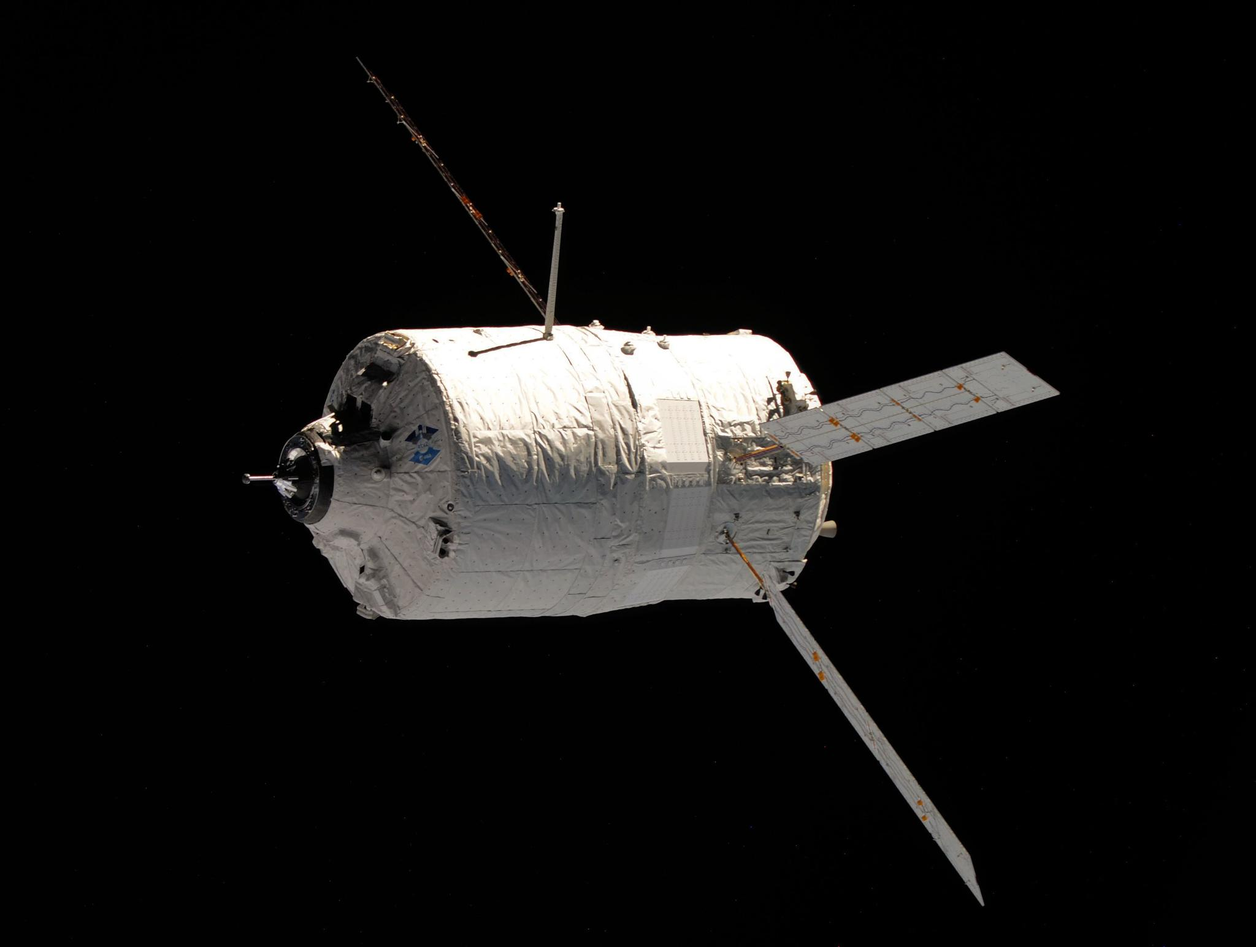antenna: (539, 196, 568, 342)
body: (241, 323, 838, 625)
solar: (763, 575, 990, 915), (352, 55, 561, 326), (757, 347, 1064, 467)
thruster: (817, 519, 838, 541), (803, 388, 820, 399), (787, 580, 799, 590), (760, 589, 768, 601), (784, 369, 792, 380), (438, 548, 447, 557), (754, 587, 762, 597), (785, 570, 796, 577), (441, 537, 450, 545), (776, 379, 782, 387)
